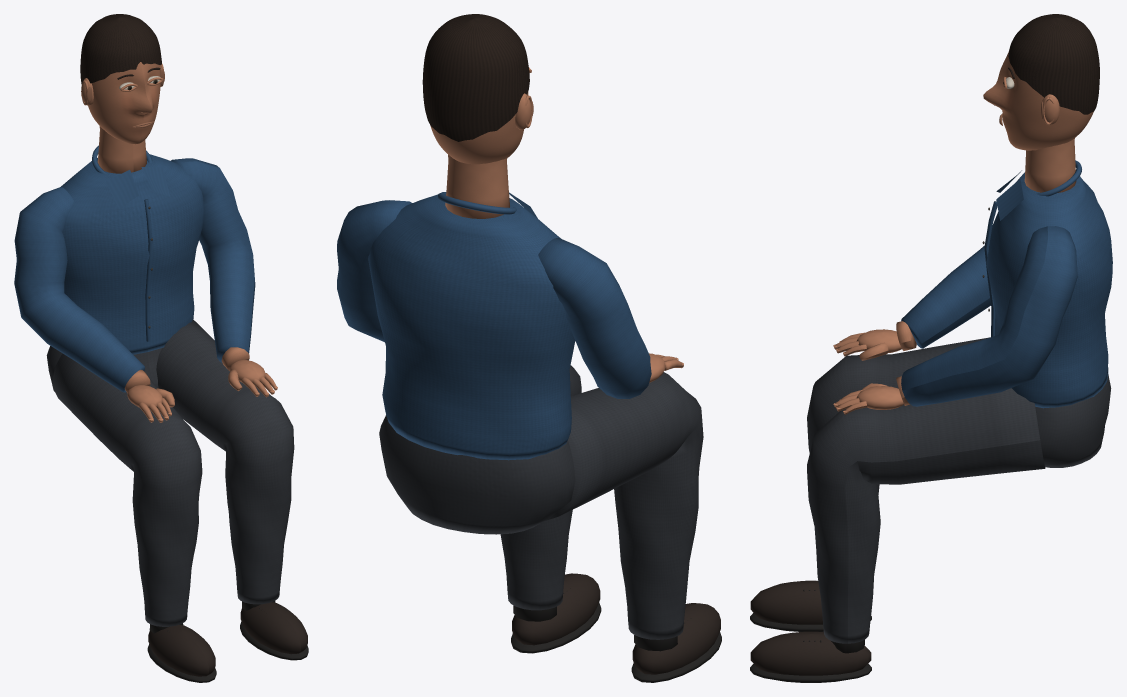
Rendered from 01_Adrian_LOD1.glb.
3 renders of one model, left to right at view 1: azimuth 30°, elevation 25°; view 2: azimuth 150°, elevation 25°; view 3: azimuth 270°, elevation 25°, orthographic. The views are drawn at different scales.
Parts seen in each view (by area): view 1: top, trousers, skin, shoes, hair, face, sole; view 2: top, trousers, hair, shoes, skin, sole, face; view 3: trousers, top, hair, shoes, skin, face, sole.
Boxes of the visible parts, box(x1,y1,x2,y2) form: top: box(14, 145, 255, 392); trousers: box(46, 320, 294, 626); skin: box(81, 63, 277, 422); shoes: box(148, 602, 307, 676); hair: box(80, 14, 161, 84); face: box(88, 62, 160, 144); sole: box(147, 601, 308, 682); top: box(337, 192, 651, 460); trousers: box(379, 365, 703, 639); hair: box(422, 14, 529, 141); shoes: box(512, 573, 720, 674); skin: box(445, 67, 683, 382); sole: box(511, 588, 721, 682); face: box(430, 92, 528, 164); trousers: box(807, 337, 1111, 643); top: box(901, 160, 1112, 408); hair: box(1008, 14, 1099, 114); shoes: box(750, 580, 871, 675); skin: box(833, 77, 1076, 414); face: box(983, 51, 1093, 150); sole: box(750, 580, 871, 682).
Bounding box in the file's own units: 0.5933 × 1.39 × 0.7207.
13 materials, 13 textured.
